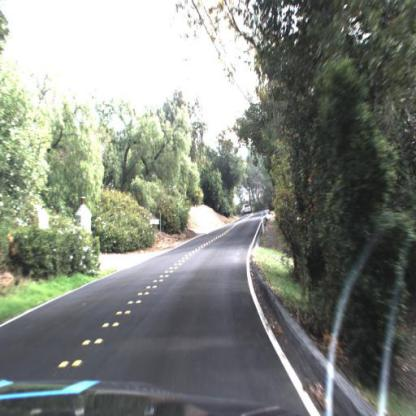car: (239, 200, 258, 220), (239, 198, 253, 218)
